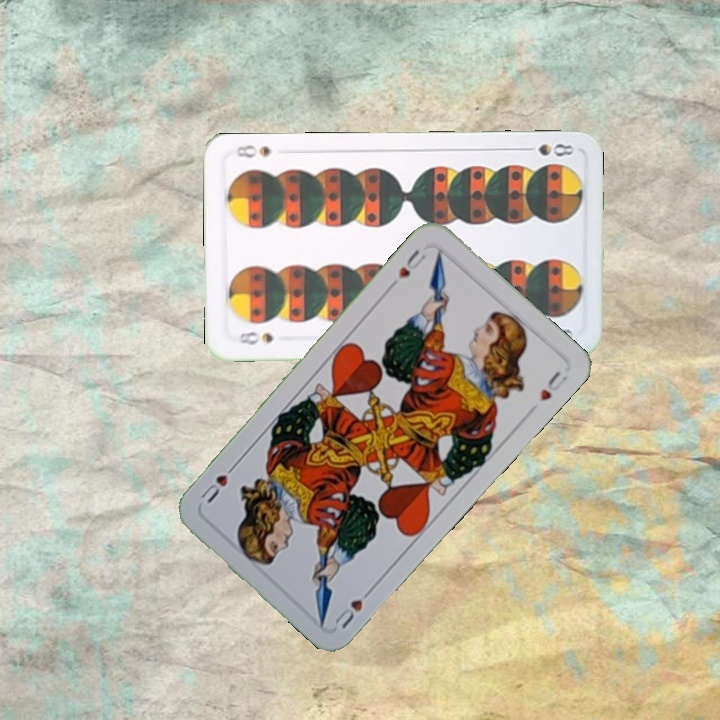HU: (330, 582, 377, 632), (394, 245, 432, 282)
S8: (518, 140, 576, 159), (229, 327, 276, 347)
